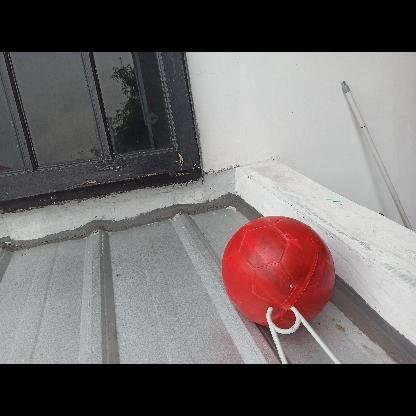red_ball: (221, 214, 332, 326)
